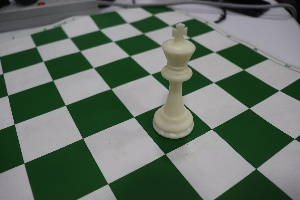white_king: (146, 8, 200, 144)
